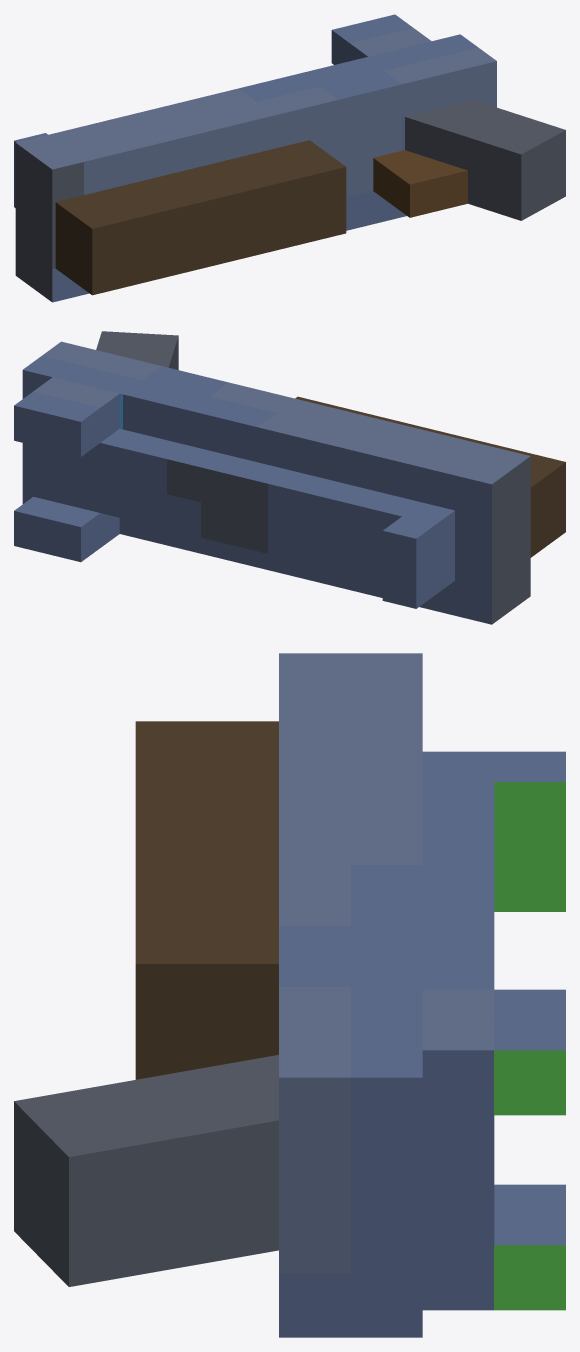
Rendered from gun.obj.
3 views of the same model, one above another, from view 1: azimuth 30°, elevation 25°; view 2: azimuth 150°, elevation 25°; view 3: azimuth 270°, elevation 25° (orthographic). The views are drawn at different scales.
Visible parts, largest first — view 1: cube; view 2: cube; view 3: cube.
Part boxes in pixels (left/top/right/bottom): cube: left=14, top=14, right=565, bottom=302; cube: left=14, top=331, right=565, bottom=624; cube: left=14, top=653, right=565, bottom=1337.
Bounding box in the file's own units: 0.9049 × 0.25 × 0.481.
Materials: 1 (1 with a texture image).
